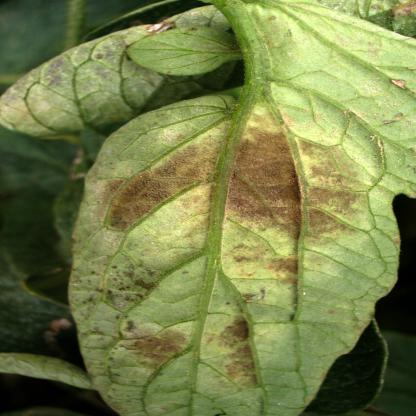Tomato mold leaf: (48, 13, 405, 416), (0, 12, 212, 153)
